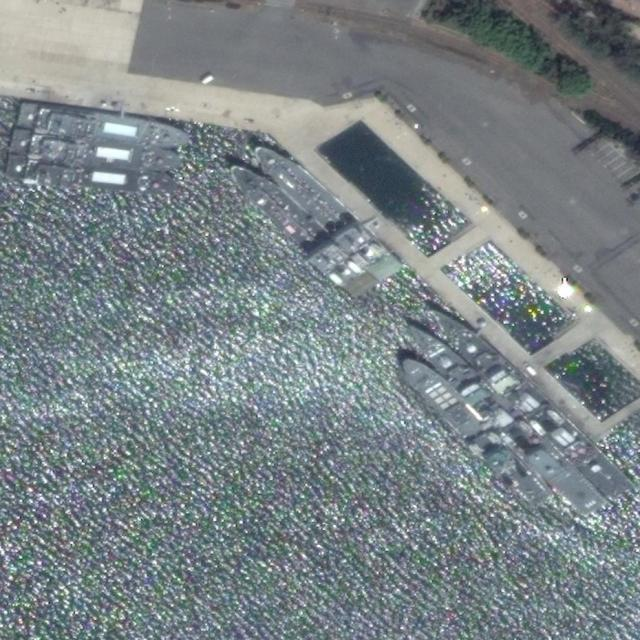Frigate: (394, 314, 606, 521), (422, 297, 632, 502)
Landing: (246, 137, 403, 286), (221, 155, 376, 305), (18, 99, 194, 156), (11, 129, 193, 180), (6, 158, 184, 200)
Other Warship: (392, 350, 555, 514)
